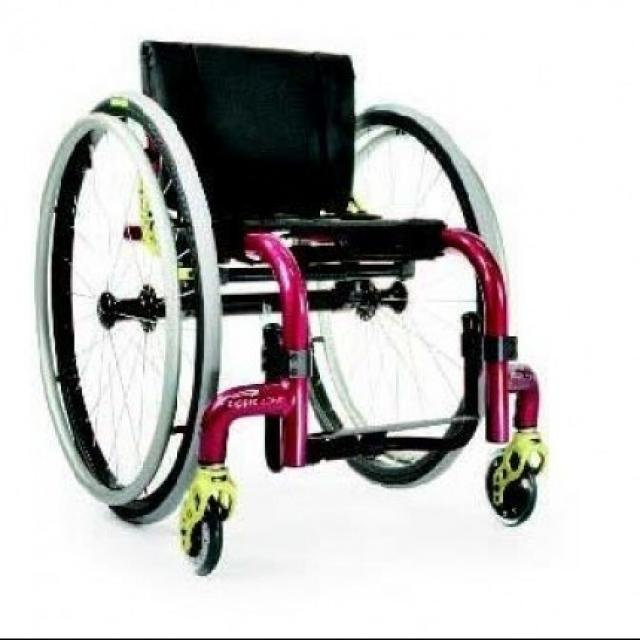wheelchair: (23, 22, 560, 582)
